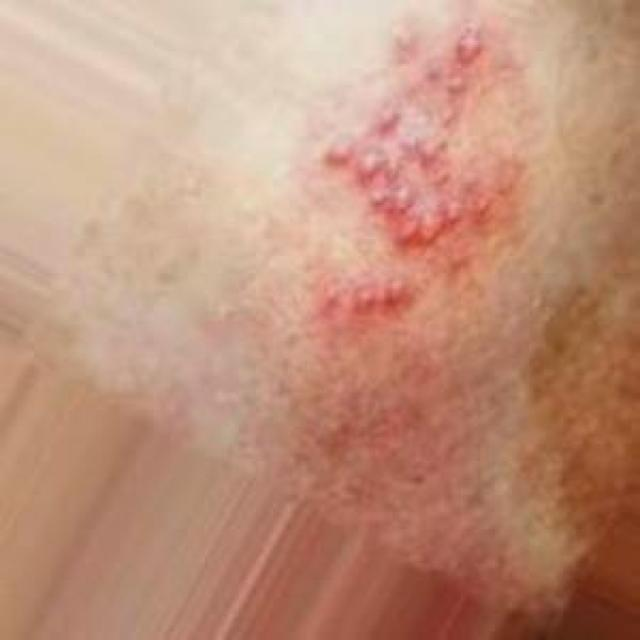Shingles: (311, 30, 513, 319)
